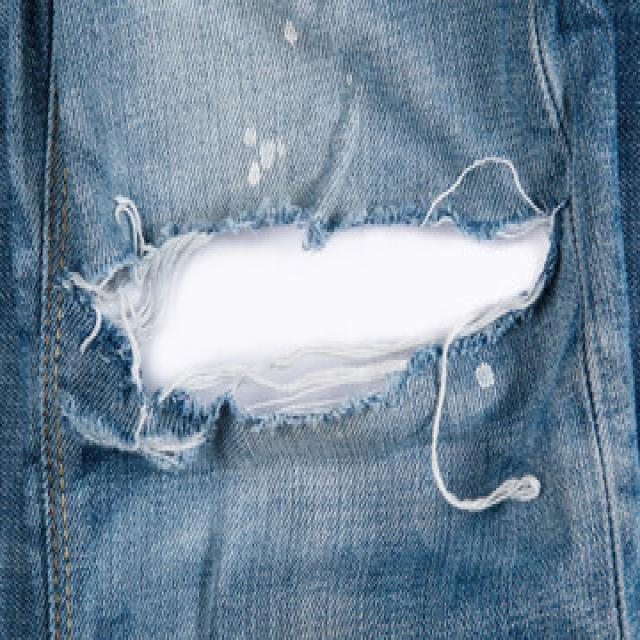Hole: (62, 216, 556, 470)
Line: (527, 0, 632, 640), (36, 0, 72, 640)
Stain: (242, 126, 286, 187), (281, 18, 302, 46), (476, 363, 496, 390)
